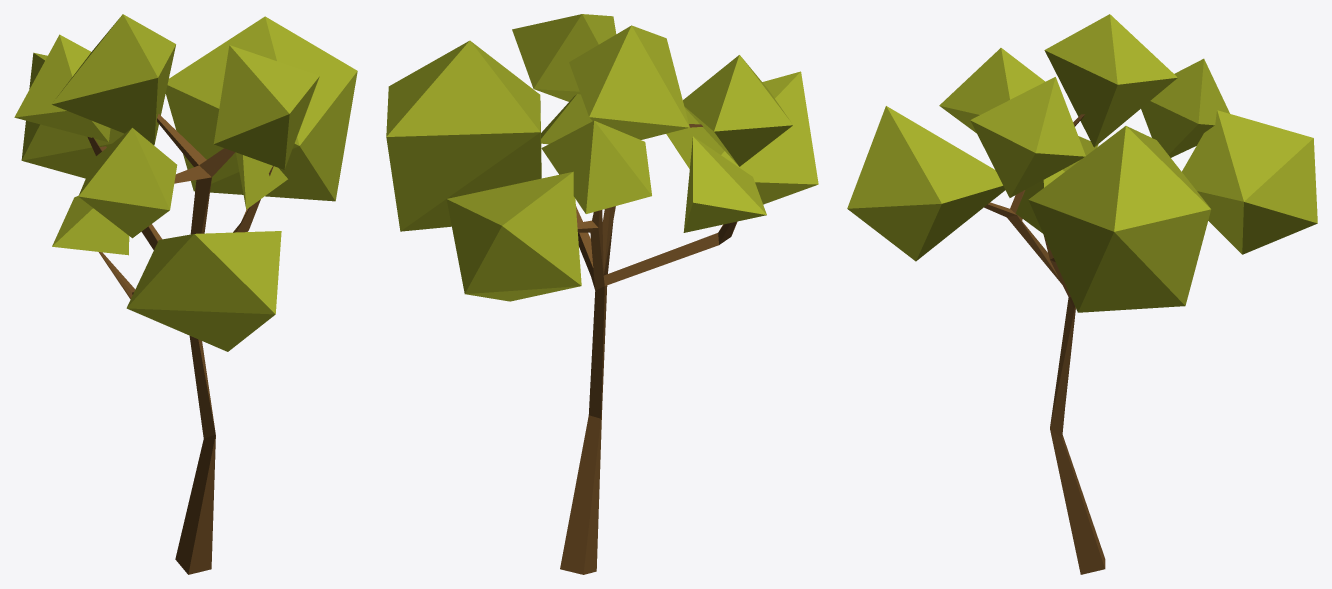
File: tree2.fbx
The picture shows the model from 3 angles, left to right: view 1: azimuth 30°, elevation 25°; view 2: azimuth 150°, elevation 25°; view 3: azimuth 270°, elevation 25°; orthographic projection. The views are drawn at different scales.
Parts seen in each view (by area): view 1: tree; view 2: tree; view 3: tree.
Part boxes in pixels (x1,y1,x2,y2): tree: (14,14,357,574); tree: (386,14,818,574); tree: (847,14,1317,574).
Size of the model in its own units: 405 by 640 by 518.
